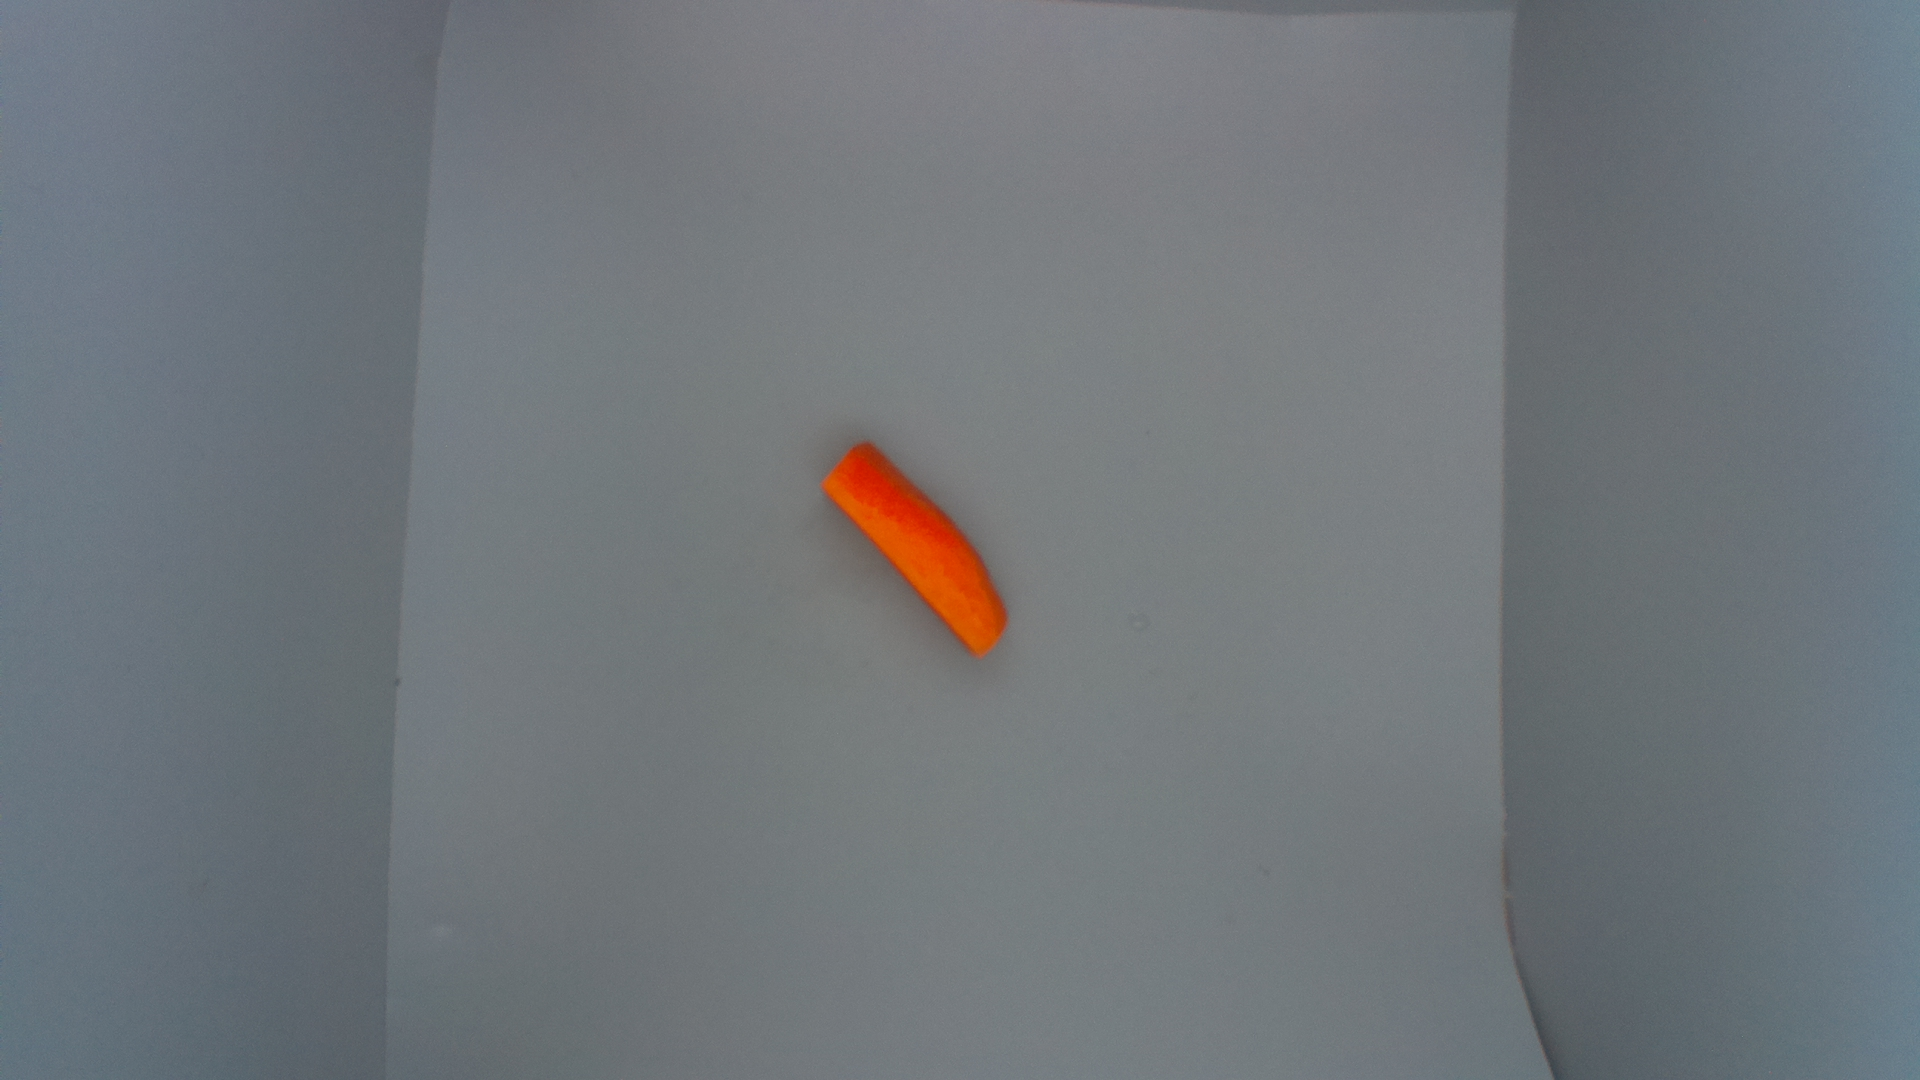carrot: (822, 436, 1011, 659)
